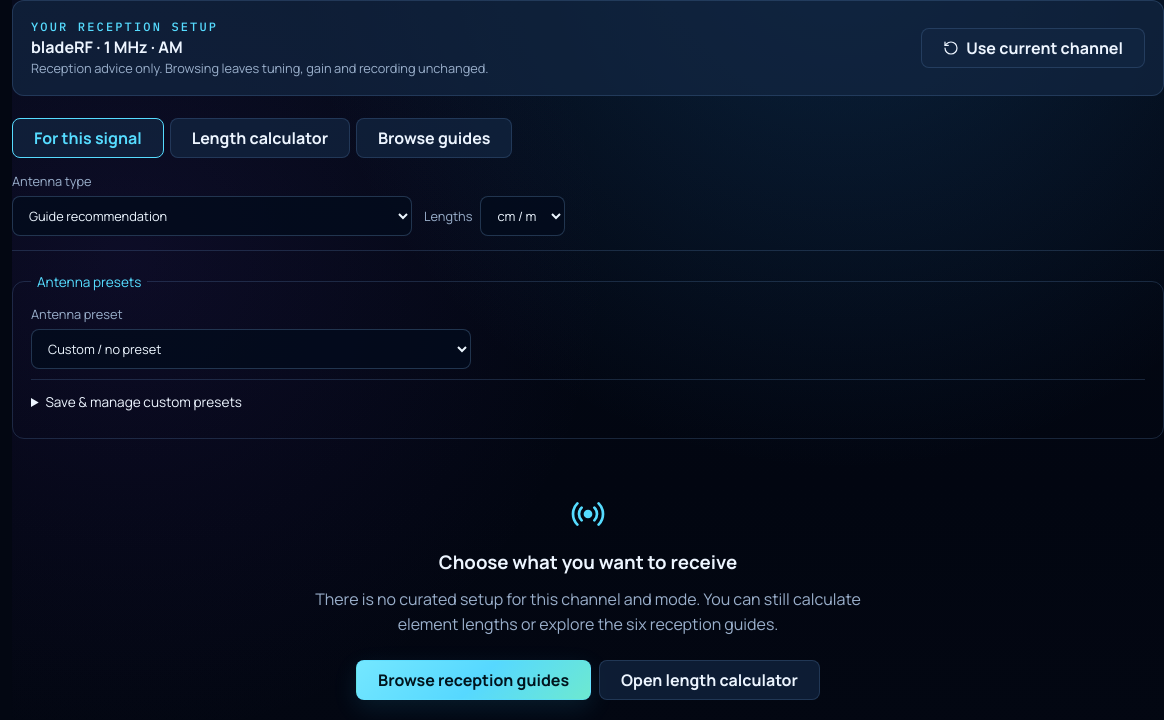
it: allows a calculation outside the current source range while labelling it separately
The image size is (1164, 720).
Click the button "Open length calculator". click: coordinates (710, 680)
box: top-left (599, 660), bottom-right (820, 700)
(page scrolled)
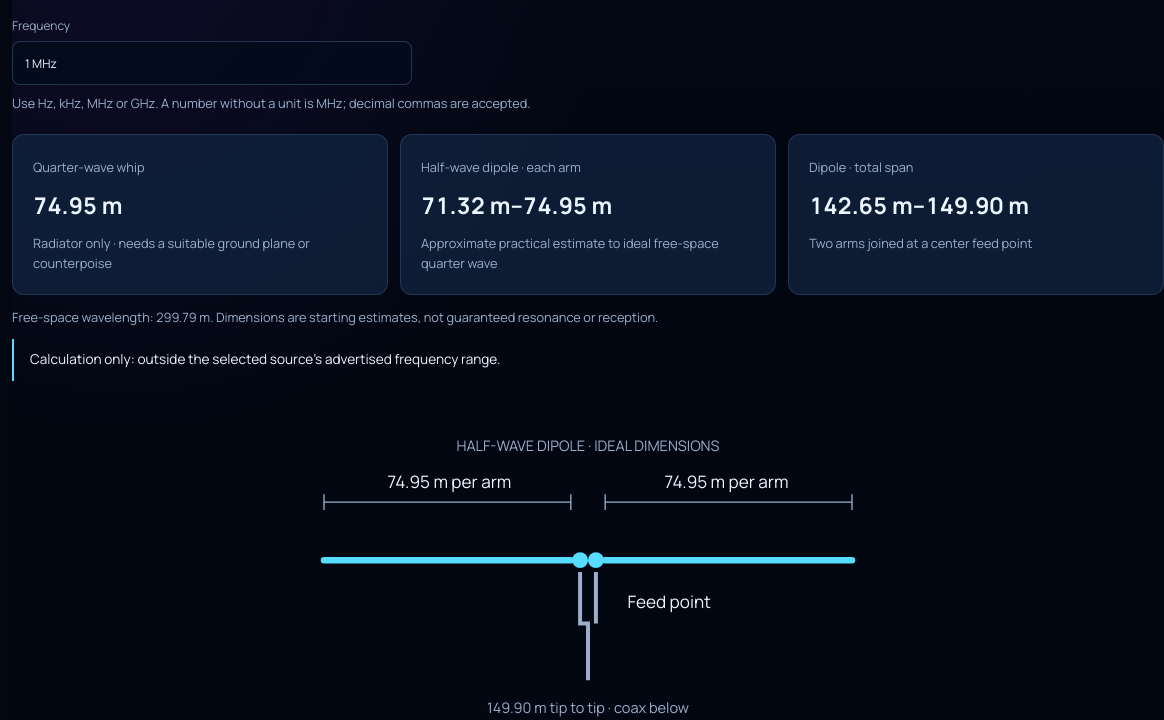
Result: the text "Calculation only" is shown at top-left (30, 350), bottom-right (500, 368)
